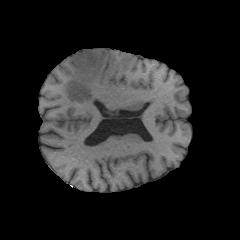glioma: (64, 49, 106, 103)
